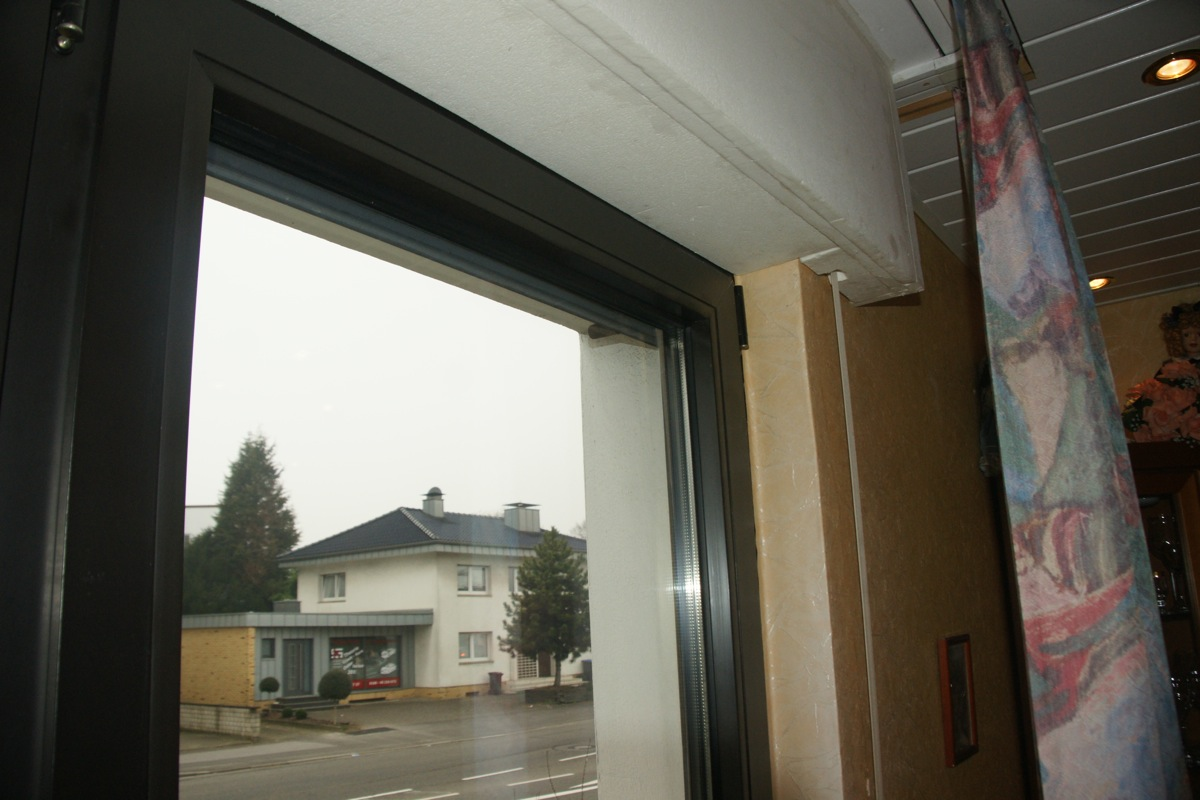windows: (161, 65, 770, 800)
